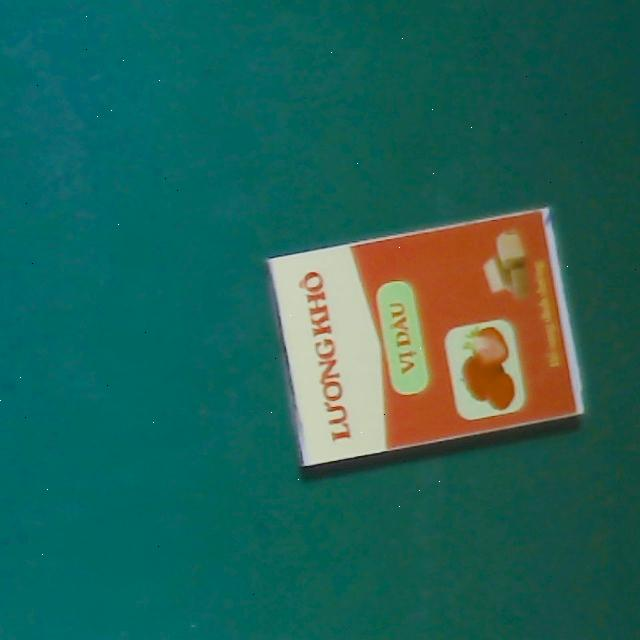dau: (266, 206, 587, 467)
